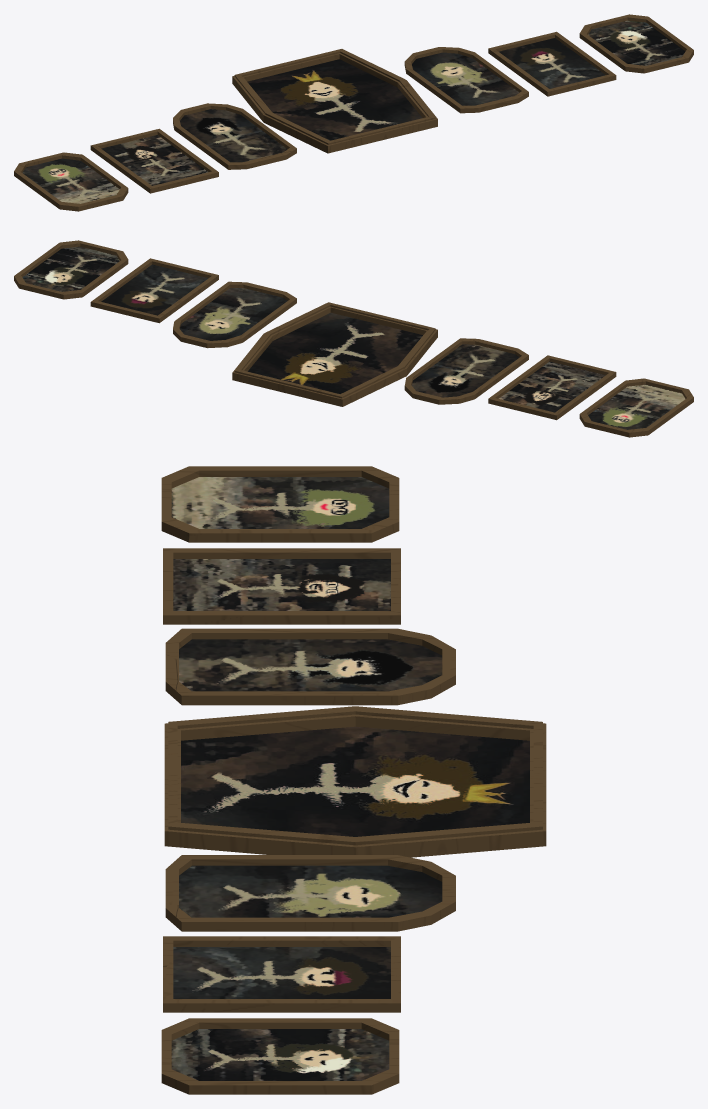
Rendered from todos juntos.fbx.
3 views of the same model, one above another, from view 1: azimuth 30°, elevation 25°; view 2: azimuth 150°, elevation 25°; view 3: azimuth 270°, elevation 25° (orthographic). The views are drawn at different scales.
Parts seen in each view (by area): view 1: Cuadros; view 2: Cuadros; view 3: Cuadros.
Boxes of the visible parts, x1,y1,x2,y2 form: Cuadros: (14, 14, 693, 211); Cuadros: (14, 240, 693, 437); Cuadros: (161, 466, 546, 1094).
Size of the model in its own units: 369 by 5.08 by 97.1.
Materials: 2 (2 with a texture image).
